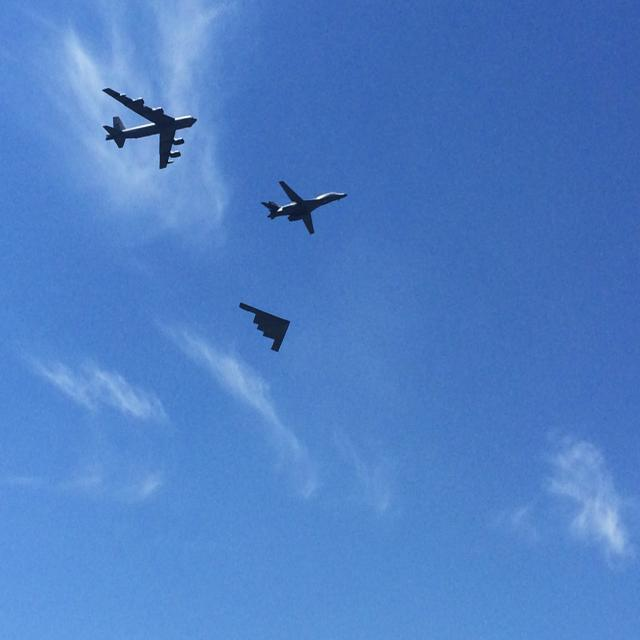MIL_Plane: (101, 87, 198, 169), (260, 174, 348, 228), (237, 302, 289, 353)
